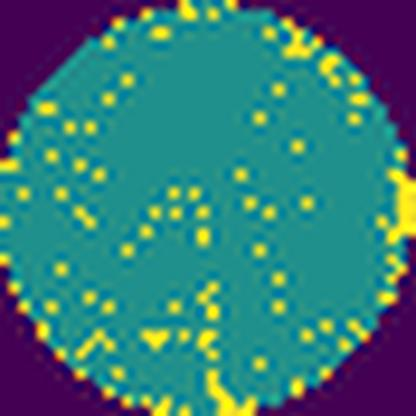Edge-Loc: (381, 164, 416, 244)
